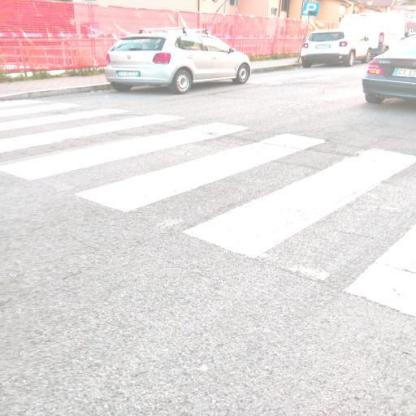crosswalk: (69, 130, 416, 265)
